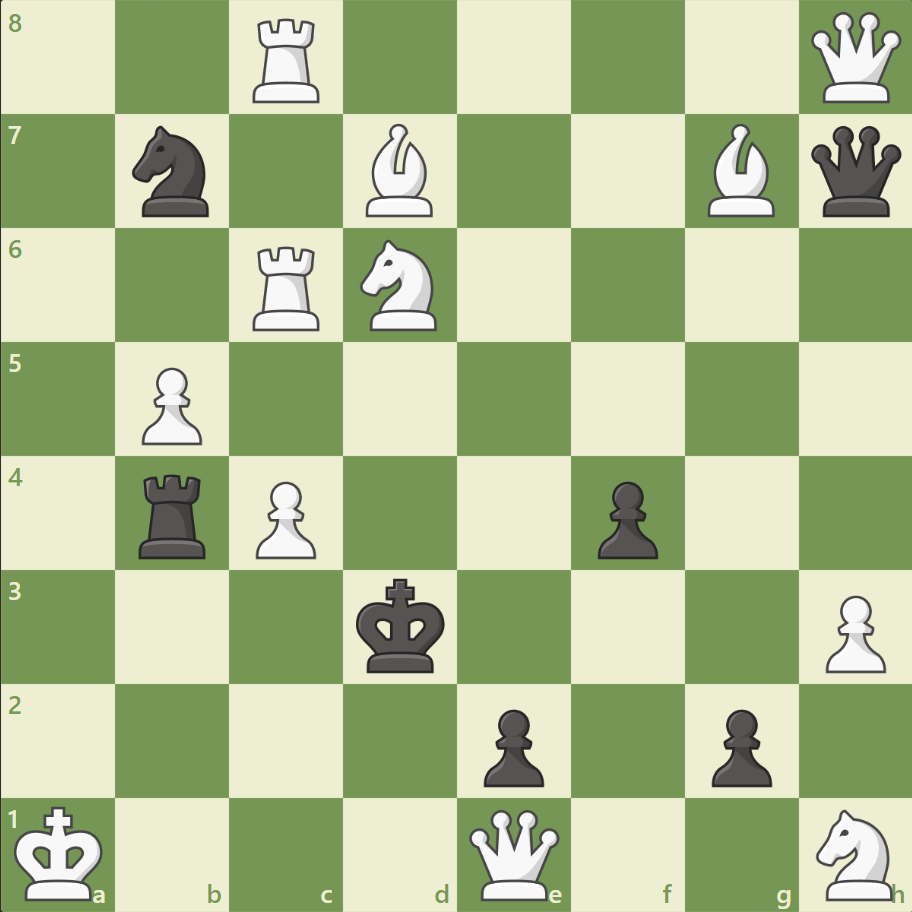B: (358, 120, 442, 222), (698, 120, 782, 222)
K: (11, 798, 111, 906)
N: (351, 234, 449, 337), (806, 802, 903, 904)
P: (133, 359, 208, 450), (247, 473, 322, 564), (815, 586, 889, 677)
Q: (805, 9, 904, 108), (464, 804, 563, 903)
R: (246, 12, 329, 109), (246, 239, 329, 336)
k: (351, 571, 451, 679)
n: (124, 121, 222, 223)
p: (474, 700, 549, 791), (701, 700, 776, 791), (588, 473, 662, 564)
q: (805, 122, 904, 222)
r: (133, 466, 215, 563)
